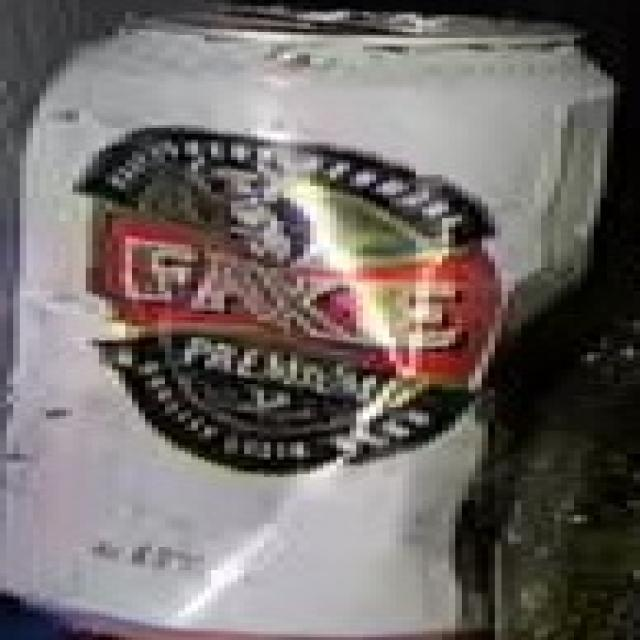litter: (0, 6, 616, 634)
